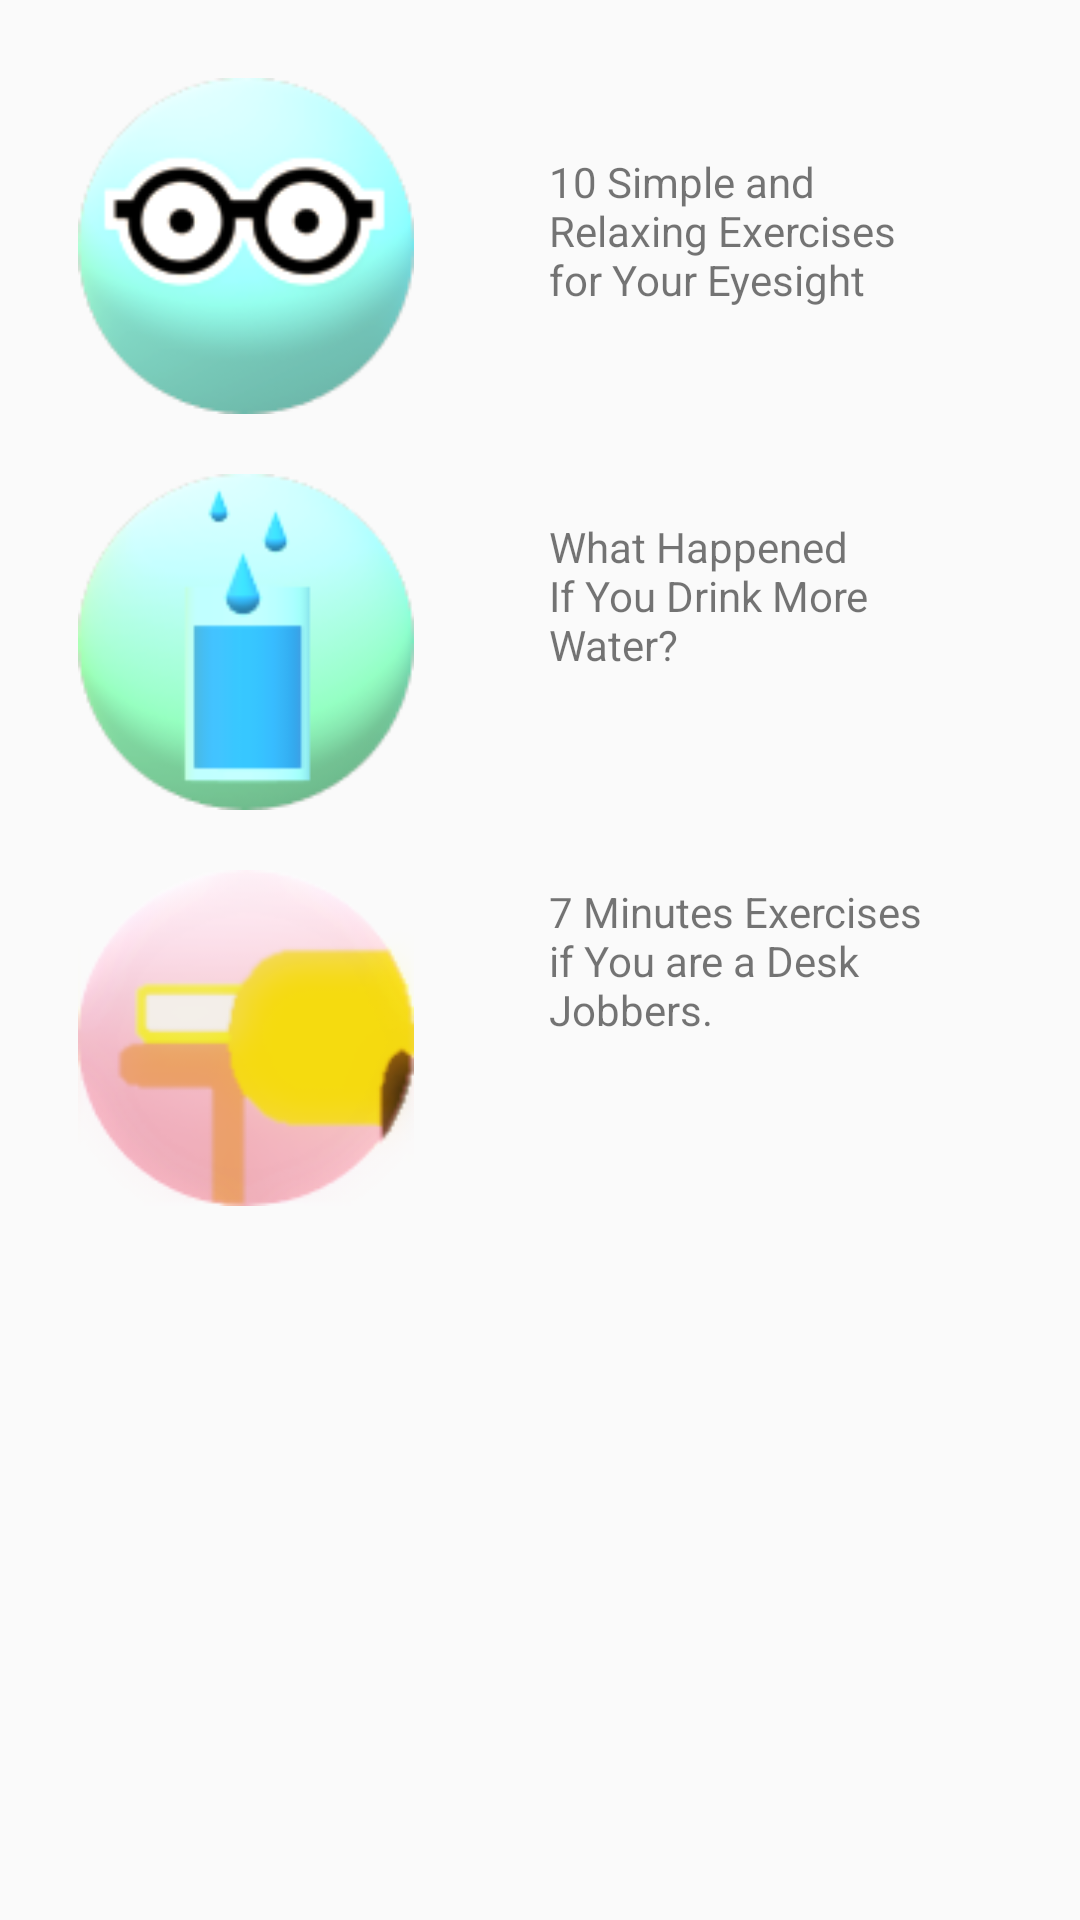

Icon click points for this 1080px x 1920px phone screenshot, format point (x, y):
Drink Fact: point (246, 642)
Eye Relaxing: point (246, 246)
